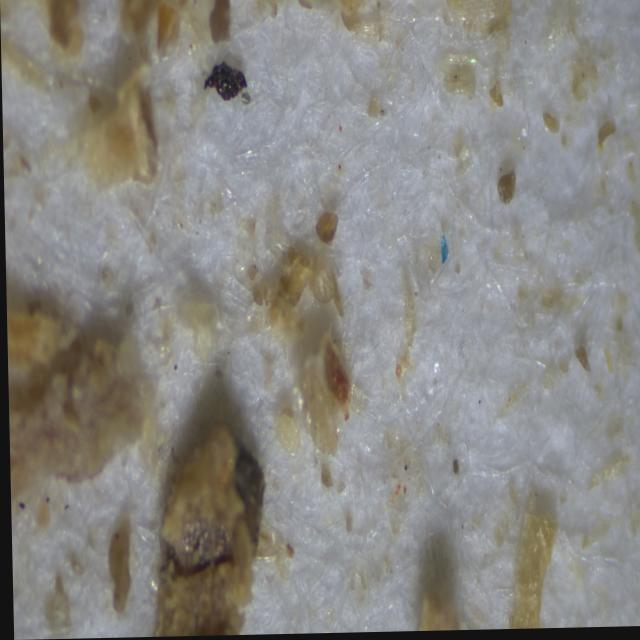microplastic: (438, 238, 448, 267)
